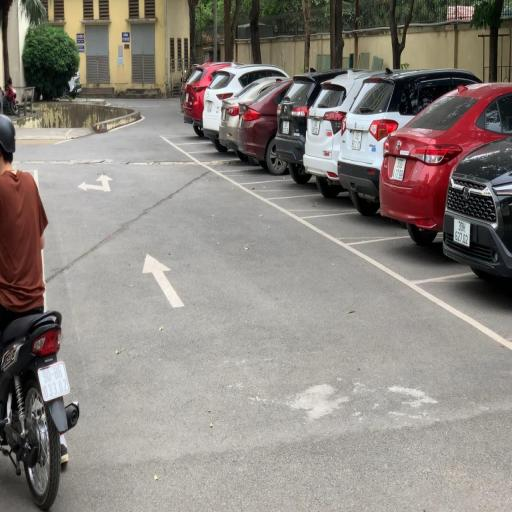bike: (0, 104, 76, 510)
numberplate: (37, 359, 70, 402)
with helmet: (0, 111, 16, 155)
